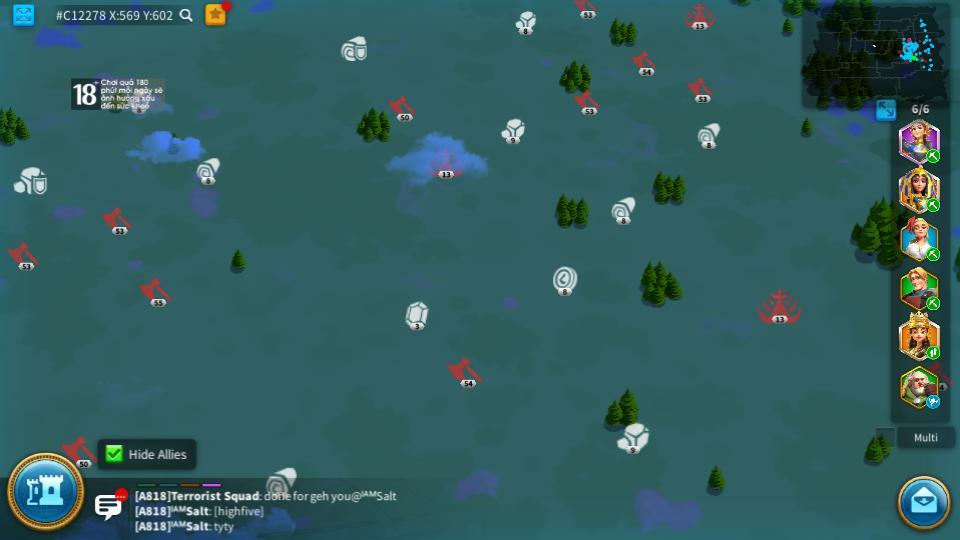gem-z-out: (404, 302, 430, 329)
march_farming: (923, 197, 940, 212), (925, 297, 942, 310), (925, 149, 941, 162), (924, 249, 939, 261)
march_idle: (925, 396, 942, 408)
march_marching: (925, 346, 941, 359)
